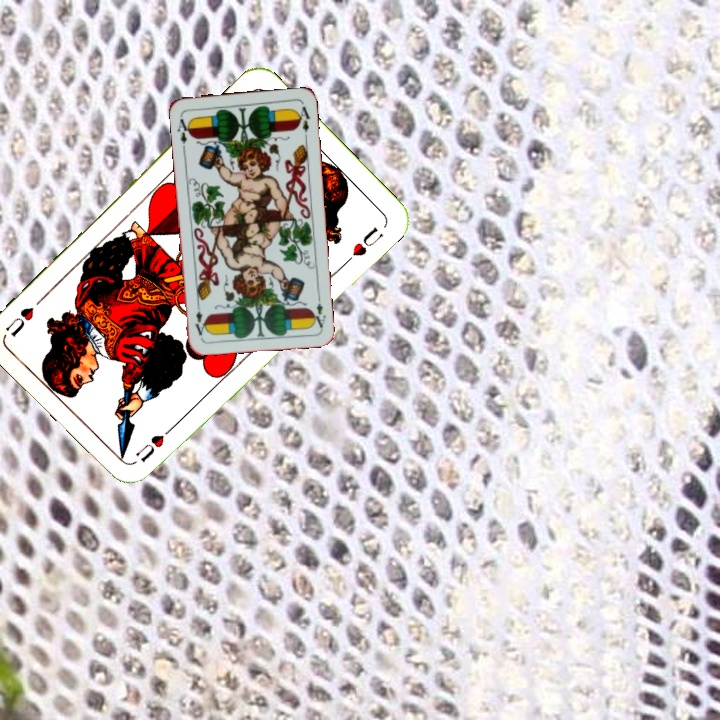EA: (308, 290, 328, 330), (173, 115, 194, 146)
HU: (132, 430, 167, 466)
